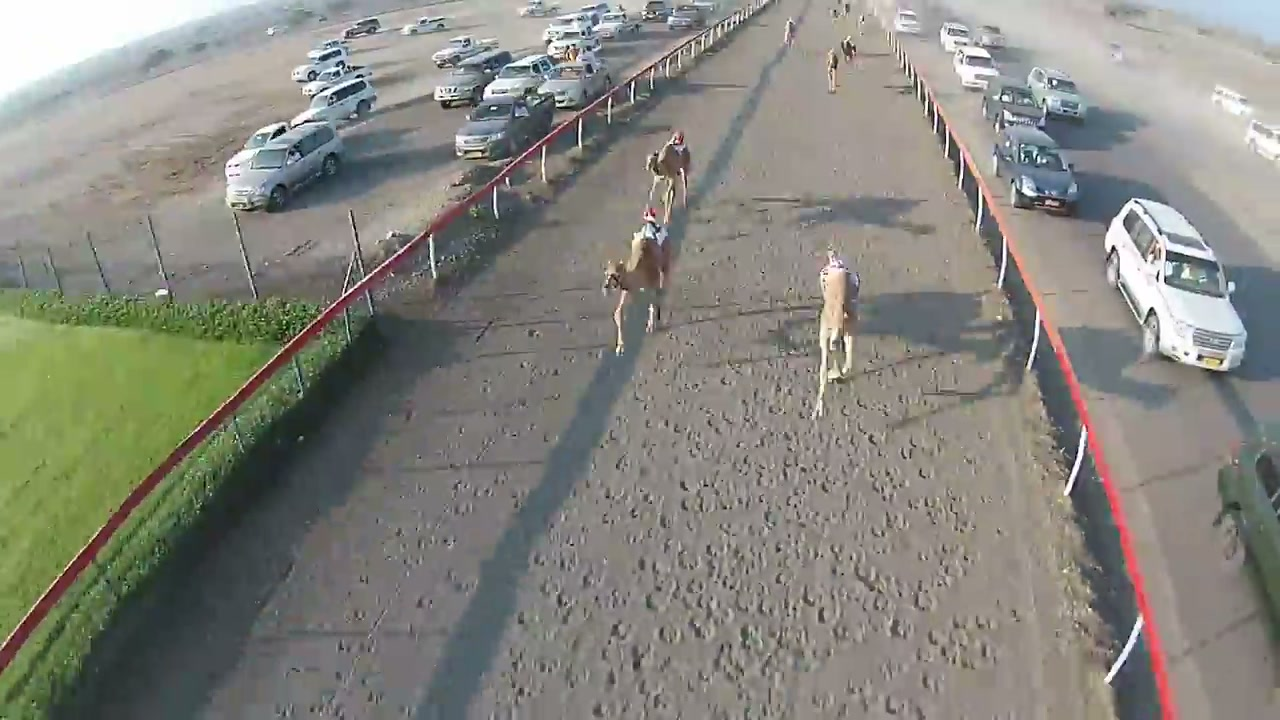animal_foot_print: (511, 327, 1024, 708), (289, 320, 568, 717)
